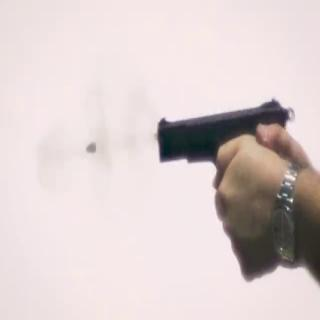gun: (151, 92, 301, 234)
